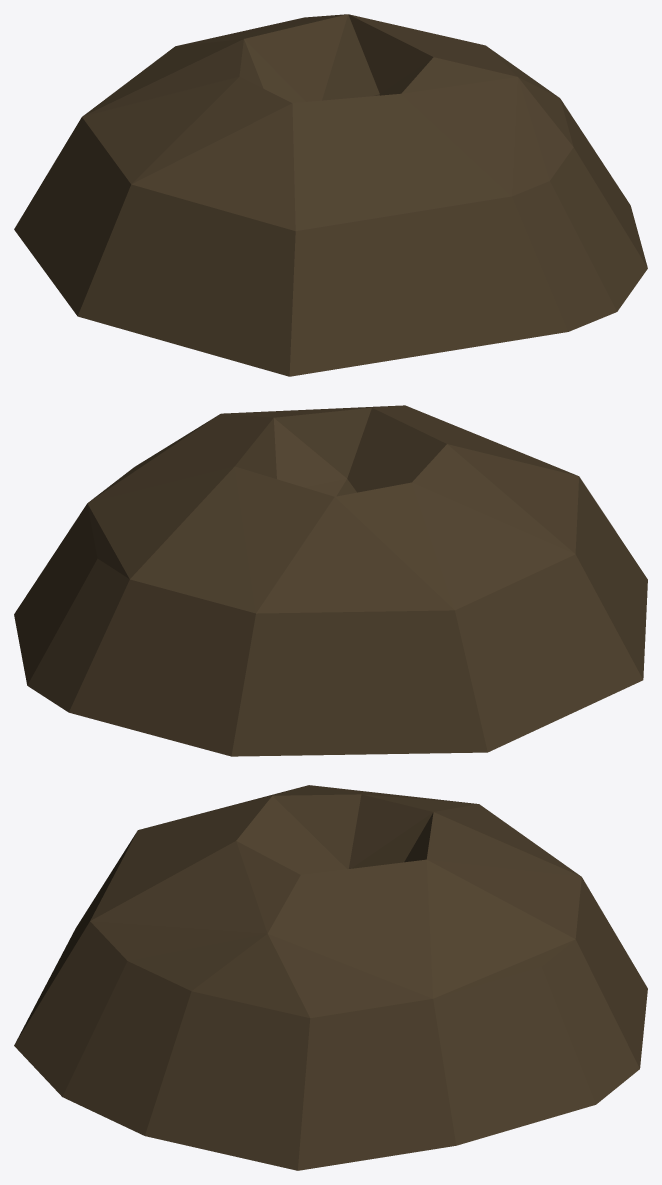
File: single soil plot.glb
3 renders of one model, top to bottom at view 1: azimuth 30°, elevation 25°; view 2: azimuth 150°, elevation 25°; view 3: azimuth 270°, elevation 25°, orthographic. The views are drawn at different scales.
Parts seen in each view (by area): view 1: Circle; view 2: Circle; view 3: Circle.
Boxes of the visible parts, <box> form: Circle: <box>14,14,647,376</box>; Circle: <box>14,405,647,756</box>; Circle: <box>14,785,647,1170</box>.
Size of the model in its own units: 3.28 by 1.12 by 3.19.
